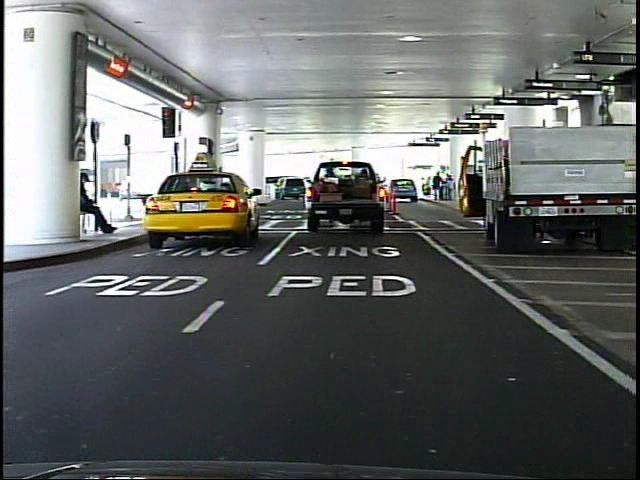person: (80, 169, 120, 239), (165, 167, 186, 218)
